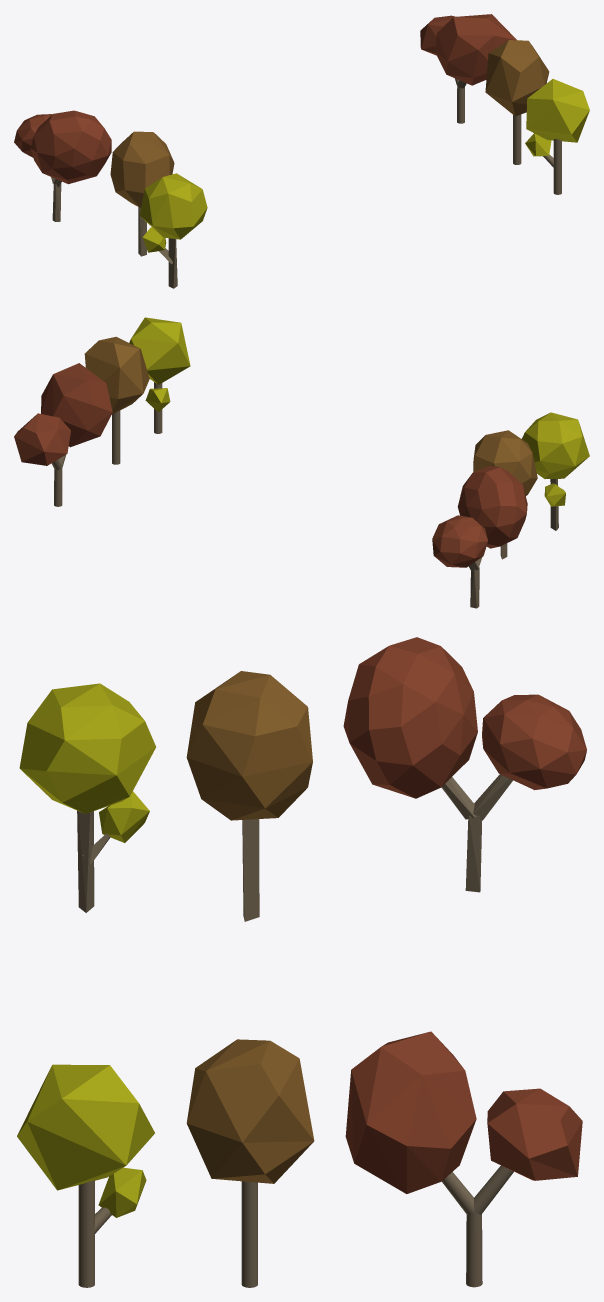
Rendered from деревья.fbx.
3 views of the same model, one above another, from view 1: azimuth 30°, elevation 25°; view 2: azimuth 150°, elevation 25°; view 3: azimuth 270°, elevation 25° (orthographic). The views are drawn at different scales.
Visible parts, largest first — view 1: д3, д1, Sphere.007, д2, Sphere, Sphere.004, Sphere.006, Cylinder.001, Cylinder, Sphere.005; view 2: д3, Sphere.007, д1, Sphere, Sphere.004, д2, Sphere.006, Cylinder, Sphere.005; view 3: д3, д2, д1, Sphere.007, Sphere, Sphere.004, Sphere.006, Cylinder, Cylinder.001, Sphere.005, Cylinder.003.
Boxes of the visible parts, <box> form: д3: <box>14,110,111,221</box>; д1: <box>139,173,207,288</box>; Sphere.007: <box>435,14,516,85</box>; д2: <box>110,131,174,256</box>; Sphere: <box>485,40,549,116</box>; Sphere.004: <box>526,79,589,142</box>; Sphere.006: <box>420,15,455,55</box>; Cylinder.001: <box>553,139,561,194</box>; Cylinder: <box>513,114,521,164</box>; Sphere.005: <box>525,133,551,156</box>; д3: <box>432,465,527,608</box>; Sphere.007: <box>41,363,112,447</box>; д1: <box>522,412,589,530</box>; Sphere: <box>84,336,149,414</box>; Sphere.004: <box>129,317,190,384</box>; д2: <box>473,430,537,559</box>; Sphere.006: <box>14,413,70,465</box>; Cylinder: <box>112,410,120,464</box>; Sphere.005: <box>145,388,170,412</box>; д3: <box>343,637,586,892</box>; д2: <box>186,671,312,921</box>; д1: <box>19,683,155,912</box>; Sphere.007: <box>345,1031,476,1193</box>; Sphere: <box>186,1039,314,1183</box>; Sphere.004: <box>17,1064,154,1190</box>; Sphere.006: <box>487,1088,582,1180</box>; Cylinder: <box>241,1181,257,1287</box>; Cylinder.001: <box>78,1180,94,1287</box>; Sphere.005: <box>98,1167,146,1217</box>; Cylinder.003: <box>466,1212,482,1287</box>.
Bounding box in the file's own units: 1329 × 324 × 695.
